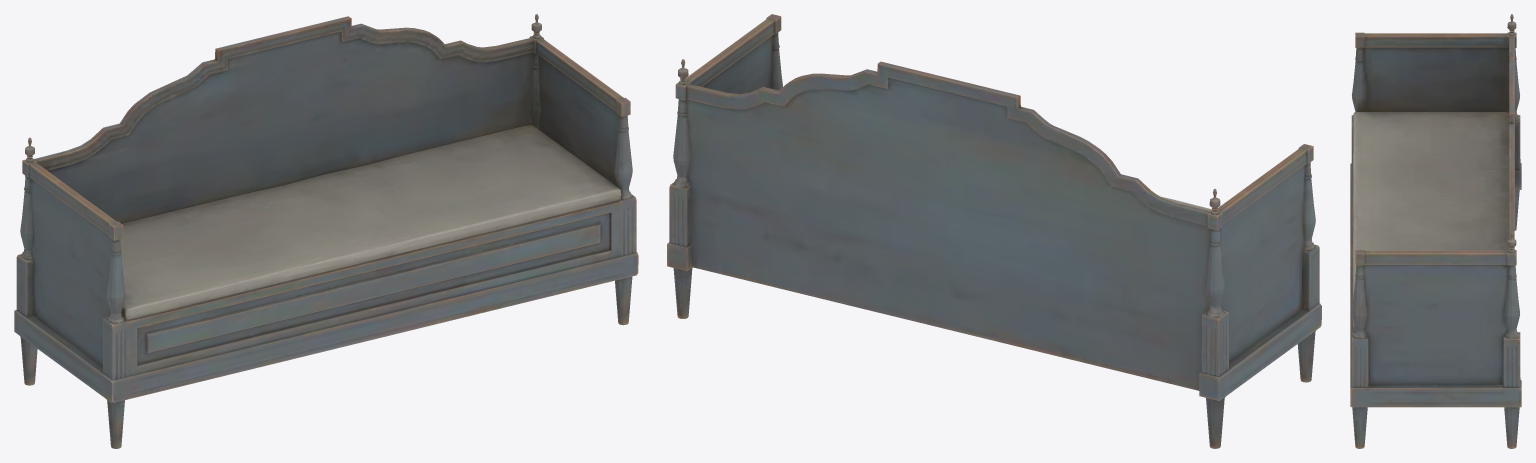
The picture shows the model from 3 angles, left to right: view 1: azimuth 30°, elevation 25°; view 2: azimuth 150°, elevation 25°; view 3: azimuth 270°, elevation 25°; orthographic projection. The views are drawn at different scales.
Visible parts, largest first — view 1: painted_wooden_sofa; view 2: painted_wooden_sofa; view 3: painted_wooden_sofa.
Boxes of the visible parts, box(x1,y1,x2,y2) form: painted_wooden_sofa: box(14, 14, 638, 448); painted_wooden_sofa: box(667, 14, 1321, 448); painted_wooden_sofa: box(1350, 14, 1521, 448).
Size of the model in its own units: 2.45 by 1.28 by 0.7872.
Materials: 1 (1 with a texture image).
